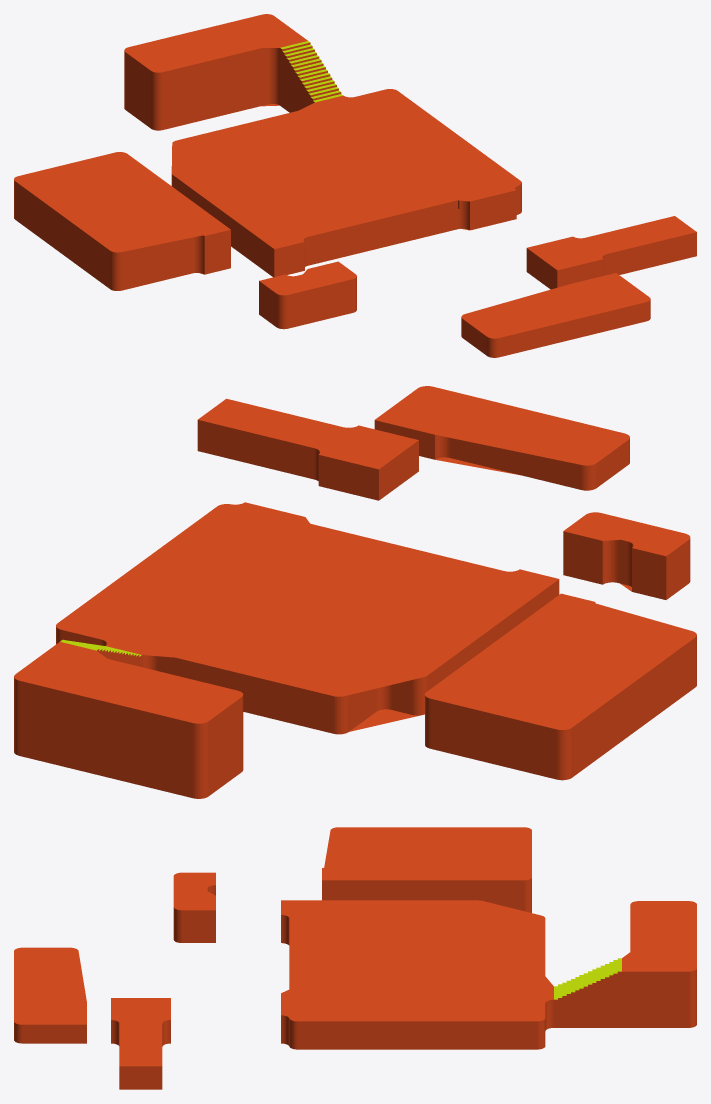
The model's file is CuevaA5.fbx.
The picture shows the model from 3 angles, top to bottom: view 1: azimuth 30°, elevation 25°; view 2: azimuth 150°, elevation 25°; view 3: azimuth 270°, elevation 25°; orthographic projection. The views are drawn at different scales.
Parts seen in each view (by area): view 1: Cube; view 2: Cube; view 3: Cube.
Part boxes in pixels (<box>): Cube: <box>14,14,696,357</box>; Cube: <box>14,386,696,798</box>; Cube: <box>14,827,696,1089</box>.
Size of the model in its own units: 257 by 330 by 30.
